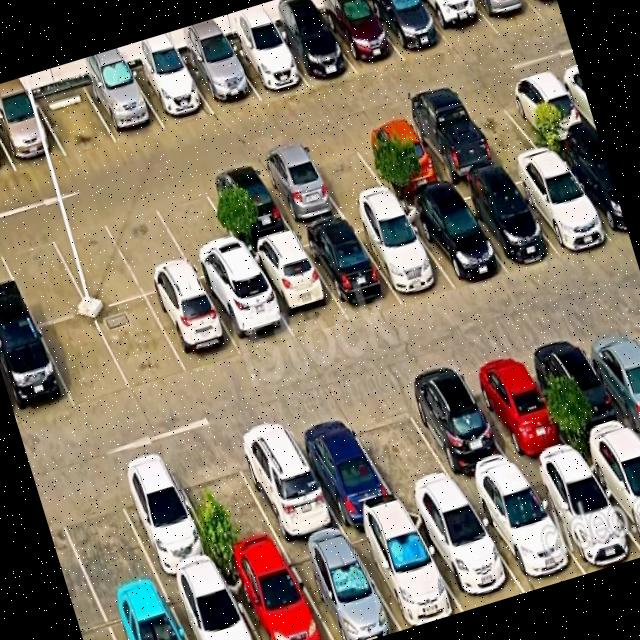empty: (49, 472, 159, 604), (167, 441, 283, 566), (342, 388, 461, 508), (150, 180, 248, 279), (46, 212, 144, 310), (102, 198, 196, 295), (93, 296, 188, 391), (38, 312, 131, 408), (0, 227, 88, 325), (300, 134, 391, 213), (457, 84, 546, 161), (35, 83, 116, 156)
occupied: (397, 367, 522, 493), (227, 417, 343, 547), (457, 349, 577, 473), (107, 456, 220, 583), (284, 405, 400, 528), (525, 330, 638, 453), (345, 512, 462, 630), (466, 476, 585, 592), (407, 496, 524, 611), (524, 458, 640, 573), (282, 533, 401, 640), (502, 152, 613, 254), (246, 235, 348, 340), (399, 191, 508, 289), (449, 174, 557, 272), (297, 220, 401, 320), (348, 206, 455, 301), (222, 550, 332, 640), (146, 281, 242, 373), (199, 266, 295, 356), (402, 101, 498, 183), (553, 139, 630, 241), (200, 164, 293, 248), (574, 317, 640, 435), (0, 323, 74, 426), (253, 149, 344, 230), (352, 118, 445, 194), (163, 568, 258, 640), (504, 69, 592, 144), (319, 0, 404, 75), (582, 436, 640, 545), (272, 15, 357, 87), (130, 58, 214, 129), (83, 70, 165, 142), (225, 32, 308, 99), (182, 46, 259, 114), (366, 0, 452, 60), (0, 97, 66, 171), (101, 586, 187, 640), (416, 0, 498, 50), (472, 0, 544, 33)
